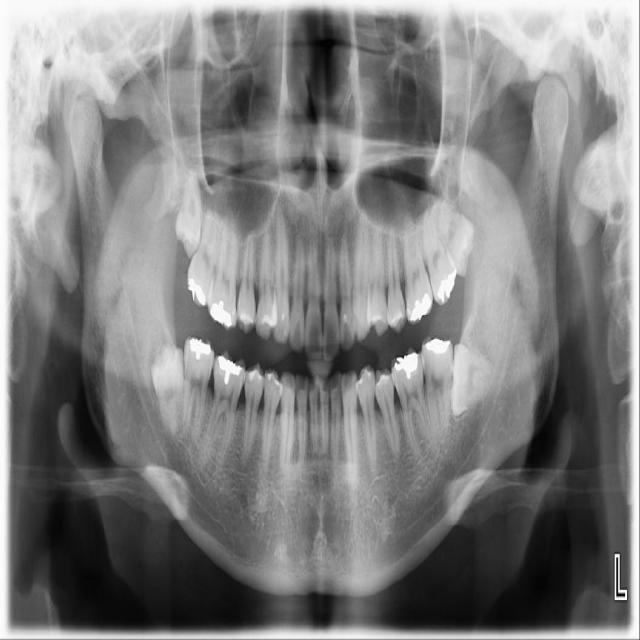3M ESPE Implant: (174, 169, 203, 260)
52: (206, 348, 249, 401), (425, 247, 462, 307), (390, 347, 424, 402), (207, 270, 237, 330), (186, 249, 215, 307), (404, 269, 434, 325), (183, 336, 215, 385), (421, 335, 453, 384), (242, 362, 267, 407), (236, 286, 258, 334), (271, 293, 291, 344), (386, 290, 407, 335), (355, 365, 375, 412), (373, 368, 395, 408), (340, 301, 356, 351), (264, 369, 282, 409)
73: (612, 560, 620, 568)
BioHorizons Implant: (413, 196, 463, 307)
BioLife Implant: (429, 187, 487, 280)
Biomet 3i Implant: (441, 342, 499, 421)
Blue Sky Bio Implant: (420, 335, 456, 445)
Caries: (184, 204, 222, 308)
Implant: (181, 335, 216, 441)
Keystone Dental Implant: (149, 343, 184, 440)
